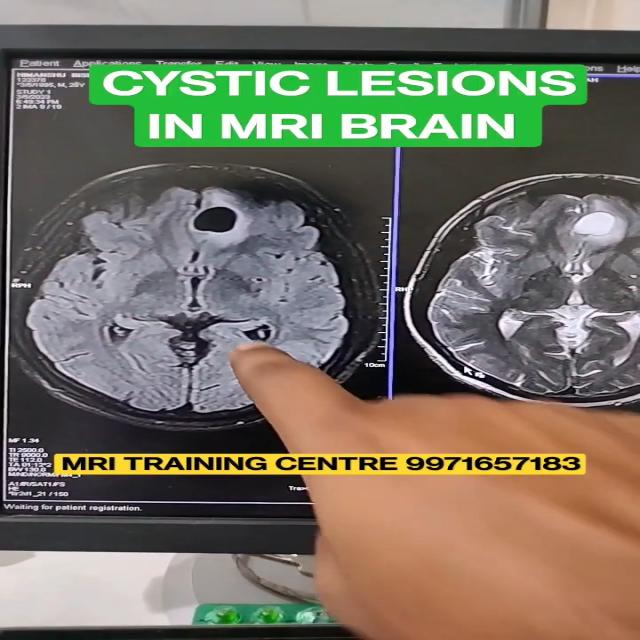tumor: (173, 190, 285, 276), (133, 201, 569, 217), (537, 186, 640, 246), (184, 192, 262, 241)
